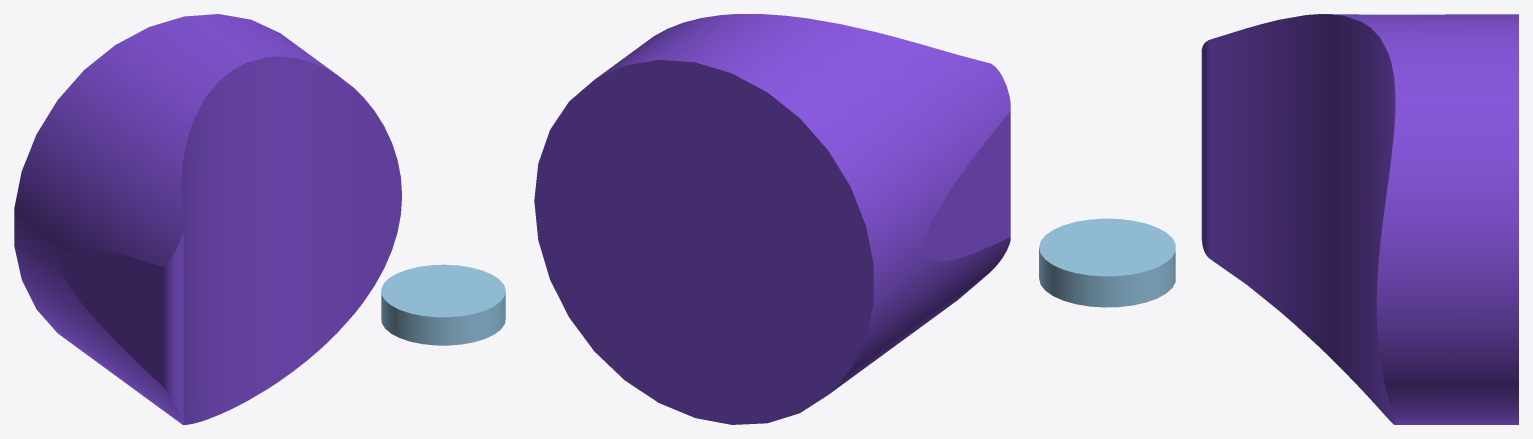
The model's file is L_Elbow_Pitch_Assy.obj.
The picture shows the model from 3 angles, left to right: view 1: azimuth 30°, elevation 25°; view 2: azimuth 150°, elevation 25°; view 3: azimuth 270°, elevation 25°; orthographic projection. The views are drawn at different scales.
Visible parts, largest first — view 1: mesh7, mesh4, mesh6, mesh0, mesh1, mesh5; view 2: mesh3, mesh4, mesh6; view 3: mesh4, mesh7, mesh0, mesh1, mesh5.
Part boxes in pixels (x1,y1,x2,y2): mesh7: (181,56,401,424); mesh4: (14,14,335,423); mesh6: (60,247,161,385); mesh0: (381,264,505,317); mesh1: (381,292,505,345); mesh5: (162,226,184,421); mesh3: (534,59,873,424); mesh4: (596,14,1010,393); mesh6: (924,113,1009,261); mesh4: (1322,14,1518,424); mesh7: (1210,14,1395,424); mesh0: (1039,218,1175,276); mesh1: (1039,248,1175,307); mesh5: (1201,40,1210,258).
Size of the model in its own units: 0.06 by 0.0599 by 0.07.
